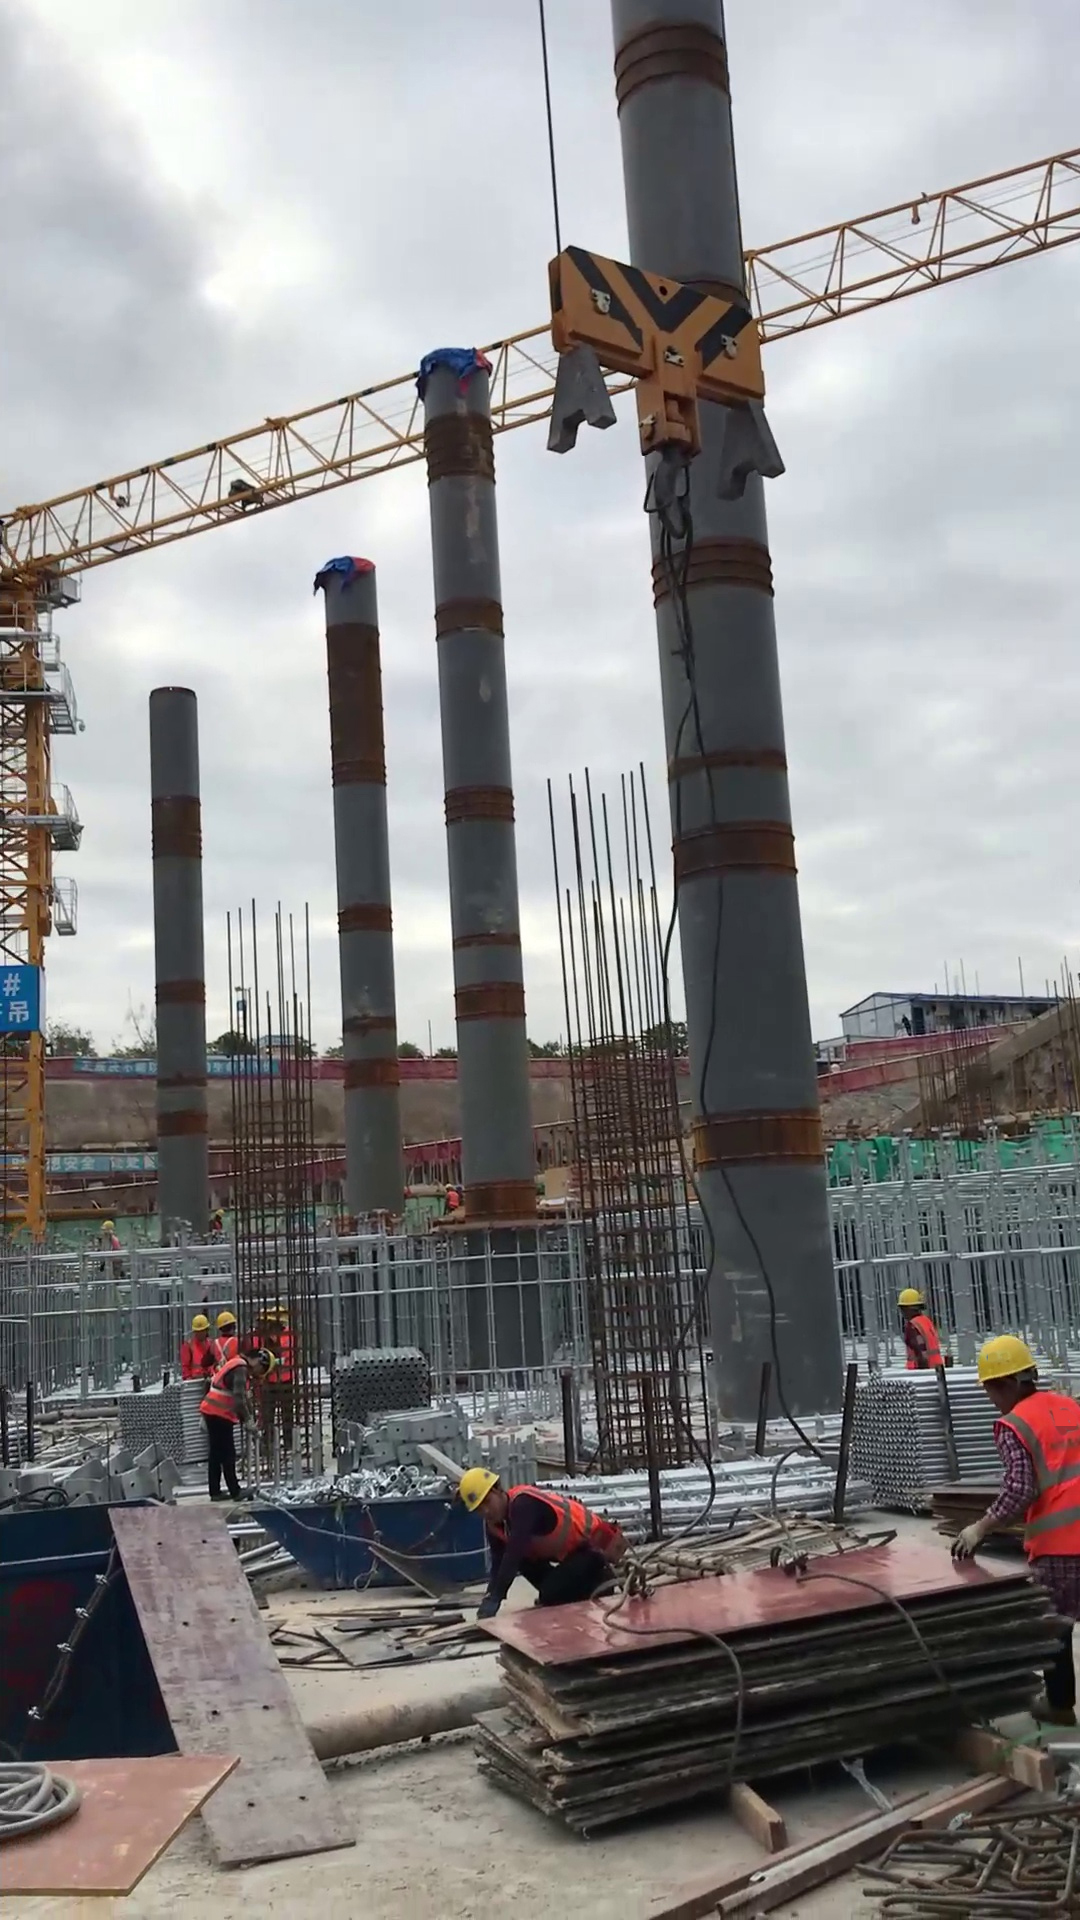board: (468, 1532, 1073, 1851)
helmet: (972, 1332, 1049, 1396), (457, 1463, 507, 1526), (889, 1281, 932, 1319), (210, 1310, 237, 1336), (187, 1310, 212, 1339), (261, 1344, 280, 1381)
hook: (537, 229, 799, 567)
hopper: (259, 1489, 495, 1601)
person: (962, 1322, 1080, 1753), (453, 1464, 637, 1626), (199, 1343, 283, 1510), (880, 1271, 957, 1382), (175, 1307, 219, 1390), (210, 1308, 251, 1383)
scaffold: (839, 1369, 1003, 1518), (321, 1345, 439, 1429), (116, 1387, 207, 1474)
slogan: (39, 1149, 164, 1175), (74, 1054, 160, 1079)
vest: (989, 1390, 1080, 1563), (500, 1483, 635, 1572), (200, 1351, 254, 1435), (887, 1313, 944, 1371), (178, 1333, 214, 1379), (211, 1331, 243, 1371)
